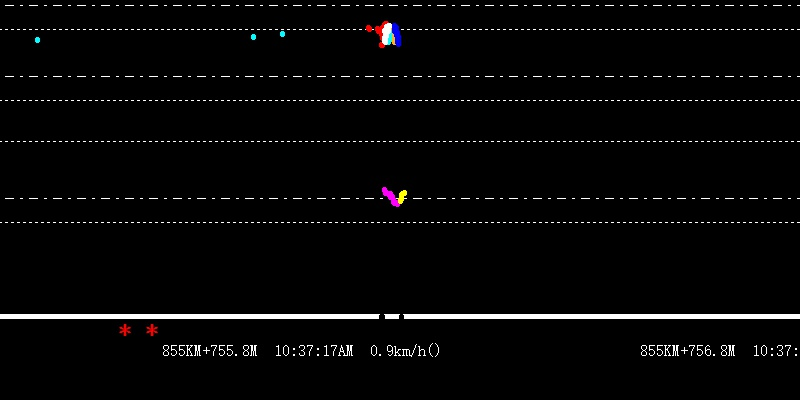face_2: (375, 21, 403, 51)
star: (145, 320, 159, 339), (119, 321, 135, 337)
